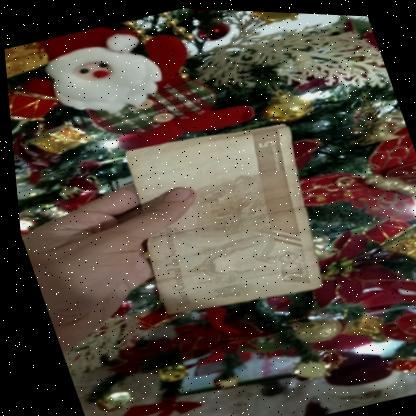five-back-vef: (103, 105, 342, 326)
